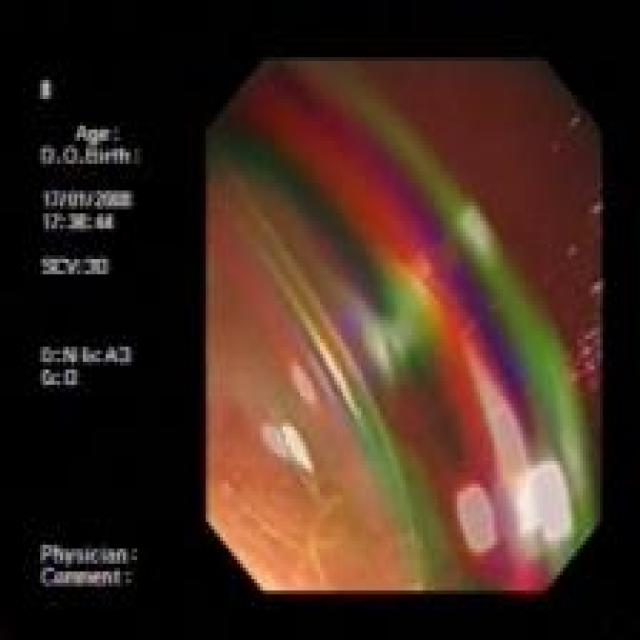color misalignment: (207, 59, 598, 591), (35, 77, 142, 591)
specularity: (522, 459, 575, 548), (285, 422, 312, 469)
